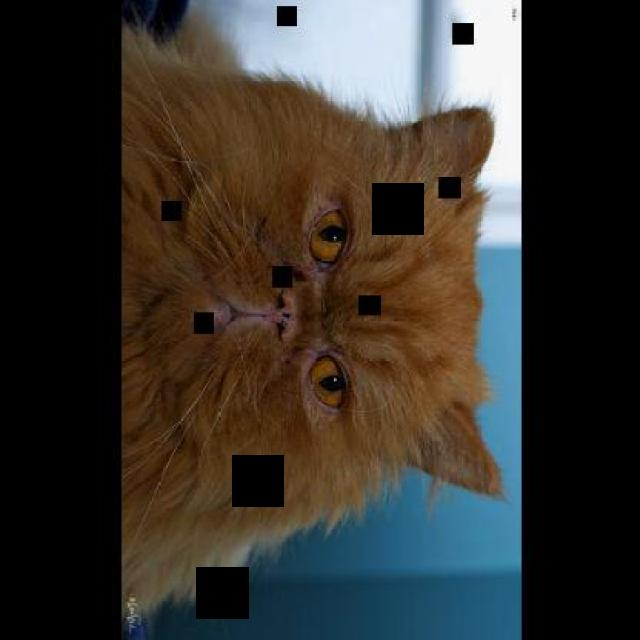unauthorized: (120, 6, 506, 620)
